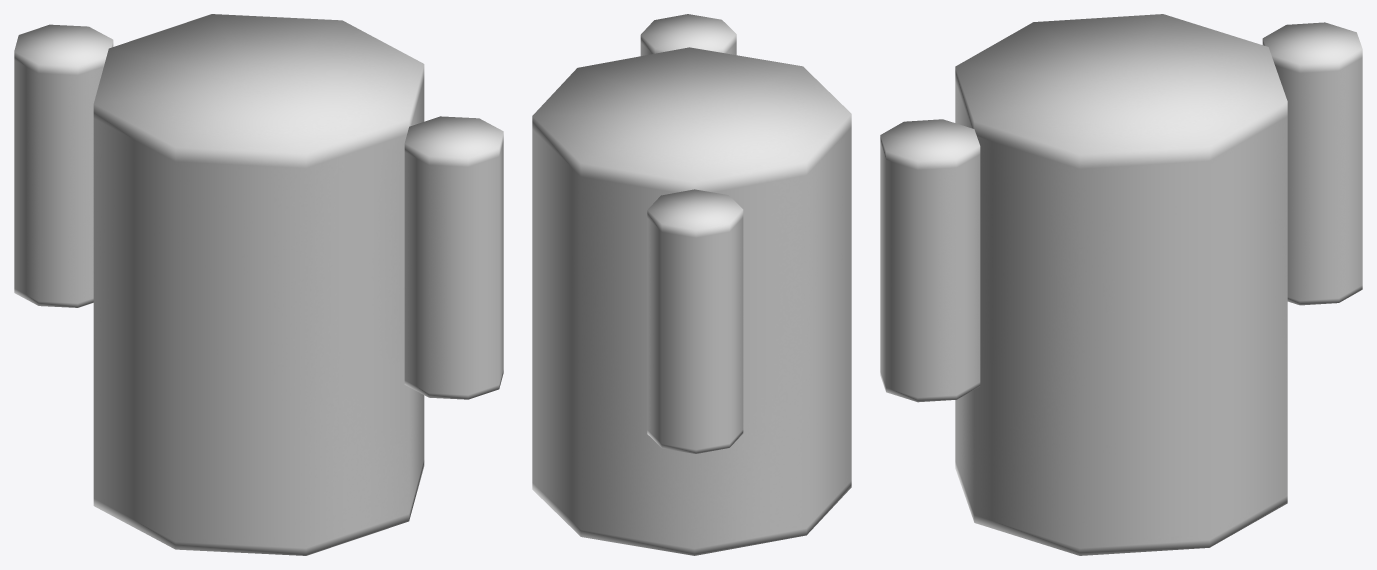
Rendered from Android_white.dae.
3 views of the same model, side by side, from view 1: azimuth 30°, elevation 25°; view 2: azimuth 150°, elevation 25°; view 3: azimuth 270°, elevation 25° (orthographic). The views are drawn at different scales.
Parts seen in each view (by area): view 1: Body, LeftHand, RightHand; view 2: Body, RightHand, LeftHand; view 3: Body, LeftHand, RightHand.
Part boxes in pixels (<box>): Body: <box>93,14,424,555</box>; LeftHand: <box>404,116,503,399</box>; RightHand: <box>14,24,113,307</box>; Body: <box>532,47,851,555</box>; RightHand: <box>647,189,743,453</box>; LeftHand: <box>640,14,736,55</box>; Body: <box>955,14,1287,555</box>; LeftHand: <box>880,119,980,402</box>; RightHand: <box>1262,22,1362,305</box>.
Bounding box in the file's own units: 1.94 × 2.81 × 2.58.
1 material, 1 textured.
